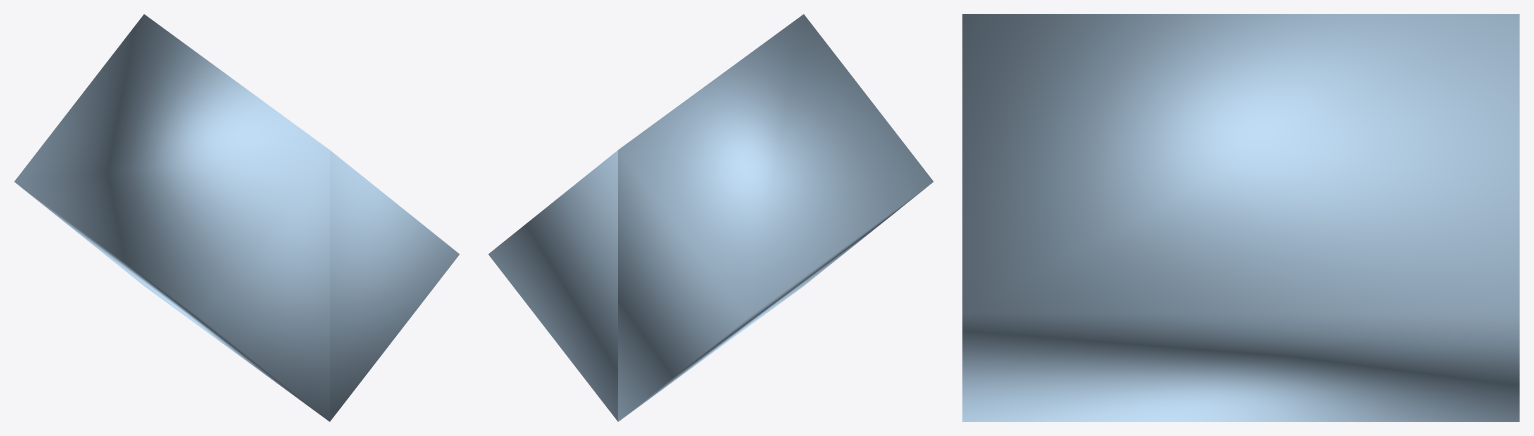
The model's file is gypsum-swallowtail.glb.
3 renders of one model, left to right at view 1: azimuth 30°, elevation 25°; view 2: azimuth 150°, elevation 25°; view 3: azimuth 270°, elevation 25°, orthographic. The views are drawn at different scales.
Parts seen in each view (by area): view 1: gypsum-swallowtail; view 2: gypsum-swallowtail; view 3: gypsum-swallowtail.
Boxes of the visible parts, box(x1,y1,x2,y2) form: gypsum-swallowtail: box(14, 14, 459, 421); gypsum-swallowtail: box(488, 14, 933, 421); gypsum-swallowtail: box(962, 14, 1519, 421).
Bounding box in the file's own units: 1.13 × 1.13 × 1.4.
